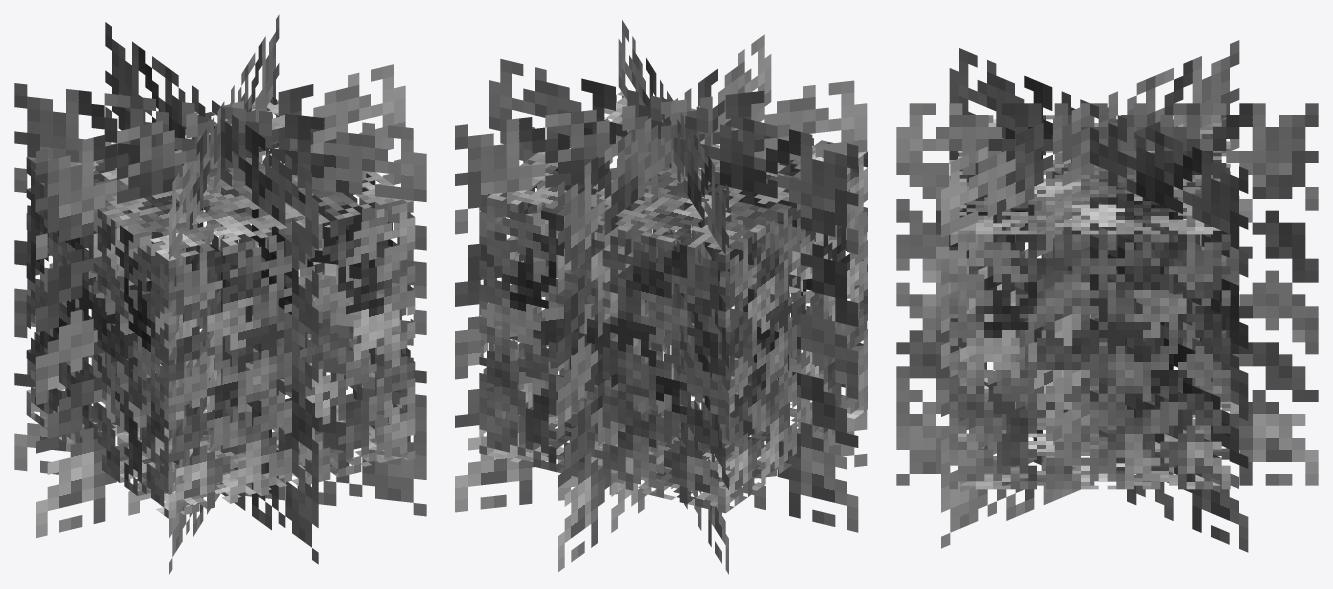
File: leafModel.obj
3 renders of one model, left to right at view 1: azimuth 30°, elevation 25°; view 2: azimuth 150°, elevation 25°; view 3: azimuth 270°, elevation 25°, orthographic.
Parts seen in each view (by area): view 1: westFace, eastFace, northFace, topFace, bottomFace, southFace; view 2: westFace, eastFace, northFace, topFace, bottomFace, southFace; view 3: westFace, southFace, eastFace, topFace, bottomFace, northFace.
Boxes of the visible parts, box(x1,y1,x2,y2) form: westFace: box(14, 14, 426, 574); eastFace: box(18, 21, 426, 572); northFace: box(26, 157, 168, 518); topFace: box(27, 101, 413, 260); bottomFace: box(31, 391, 407, 515); southFace: box(273, 97, 414, 441); westFace: box(455, 20, 867, 574); eastFace: box(457, 23, 867, 513); northFace: box(725, 155, 867, 512); topFace: box(487, 91, 867, 255); bottomFace: box(487, 376, 863, 509); southFace: box(479, 95, 621, 436); westFace: box(896, 40, 1318, 552); southFace: box(949, 234, 1230, 489); eastFace: box(896, 41, 1317, 541); topFace: box(949, 115, 1230, 234); bottomFace: box(958, 378, 1230, 489); northFace: box(949, 115, 1230, 349).
Bounding box in the file's own units: 1.5 × 1.5 × 1.5.
Materials: 1 (1 with a texture image).
